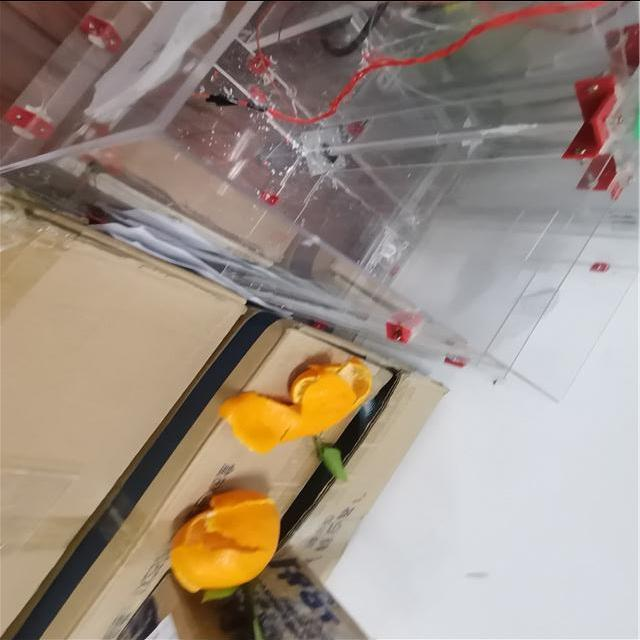orange peel: (212, 352, 372, 454), (167, 487, 285, 595)
